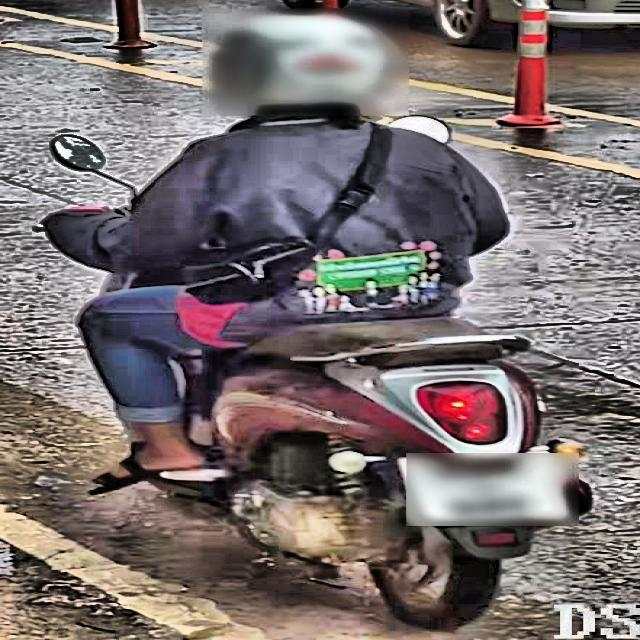motorcycle: (46, 123, 600, 623)
